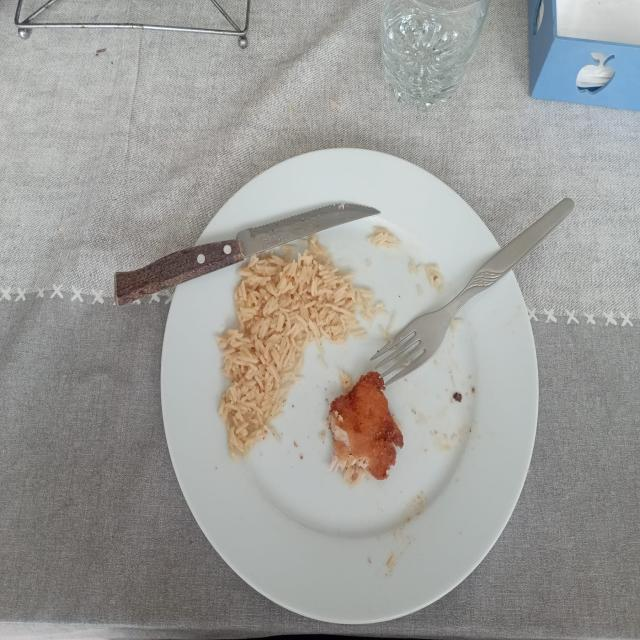breaded: (327, 372, 403, 482)
cup: (381, 0, 489, 112)
fork: (369, 198, 574, 386)
knife: (115, 203, 379, 305)
plate: (115, 149, 573, 624)
rice: (217, 235, 385, 456), (410, 262, 443, 289), (368, 227, 399, 248)
